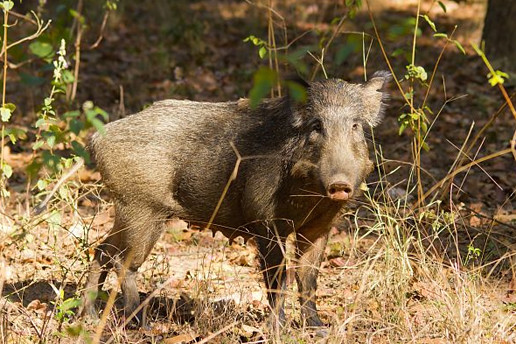wild boar: (82, 64, 399, 328)
